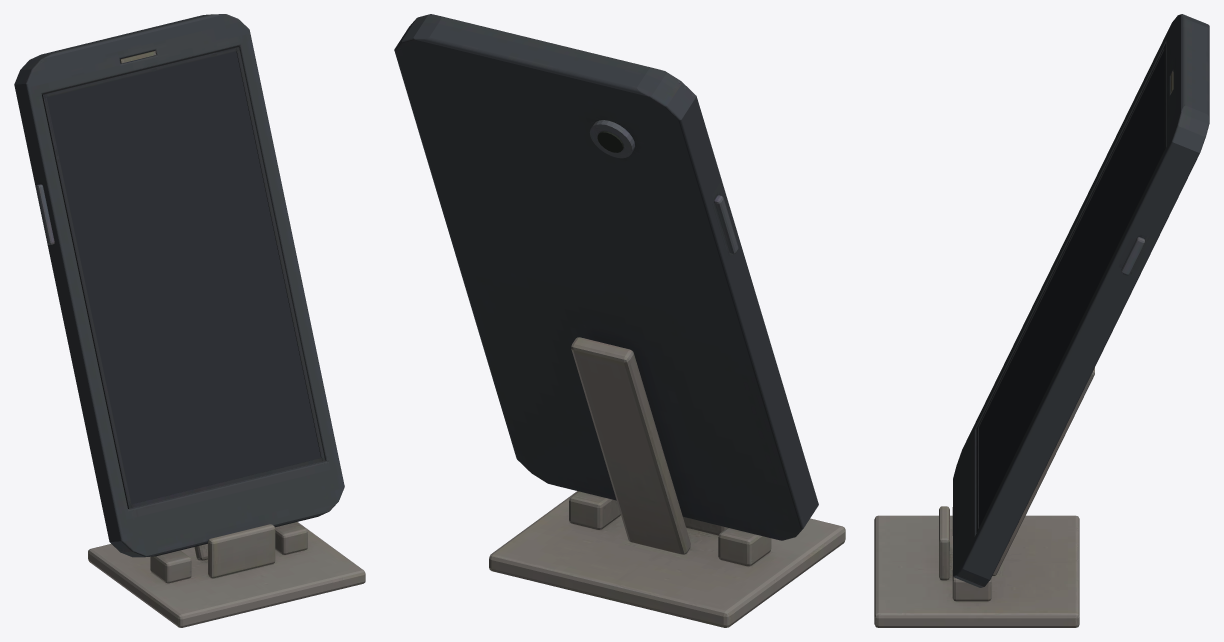
The model's file is phone-b.glb.
3 views of the same model, side by side, from view 1: azimuth 30°, elevation 25°; view 2: azimuth 150°, elevation 25°; view 3: azimuth 270°, elevation 25° (orthographic). The views are drawn at different scales.
Parts seen in each view (by area): view 1: screen-glass, so-baked; view 2: so-baked; view 3: so-baked, screen-glass.
Part boxes in pixels (<box>): screen-glass: <box>47,51,320,504</box>; so-baked: <box>14,14,365,627</box>; so-baked: <box>394,14,845,627</box>; so-baked: <box>874,14,1209,627</box>; screen-glass: <box>978,50,1164,527</box>.
Size of the model in its own units: 0.072 by 0.1389 by 0.0816.
Materials: 3 (1 with a texture image).
